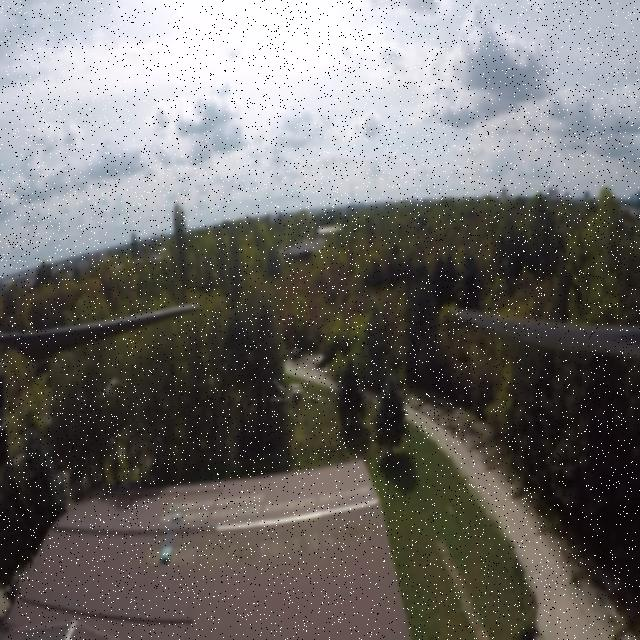UAV: (268, 375, 324, 428)
